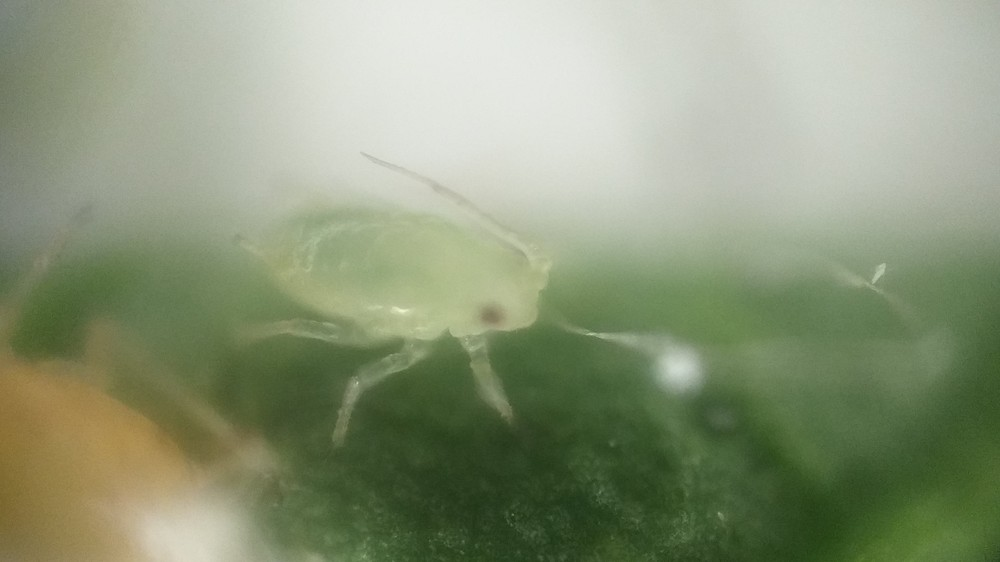Pulgon: (223, 149, 585, 448)
